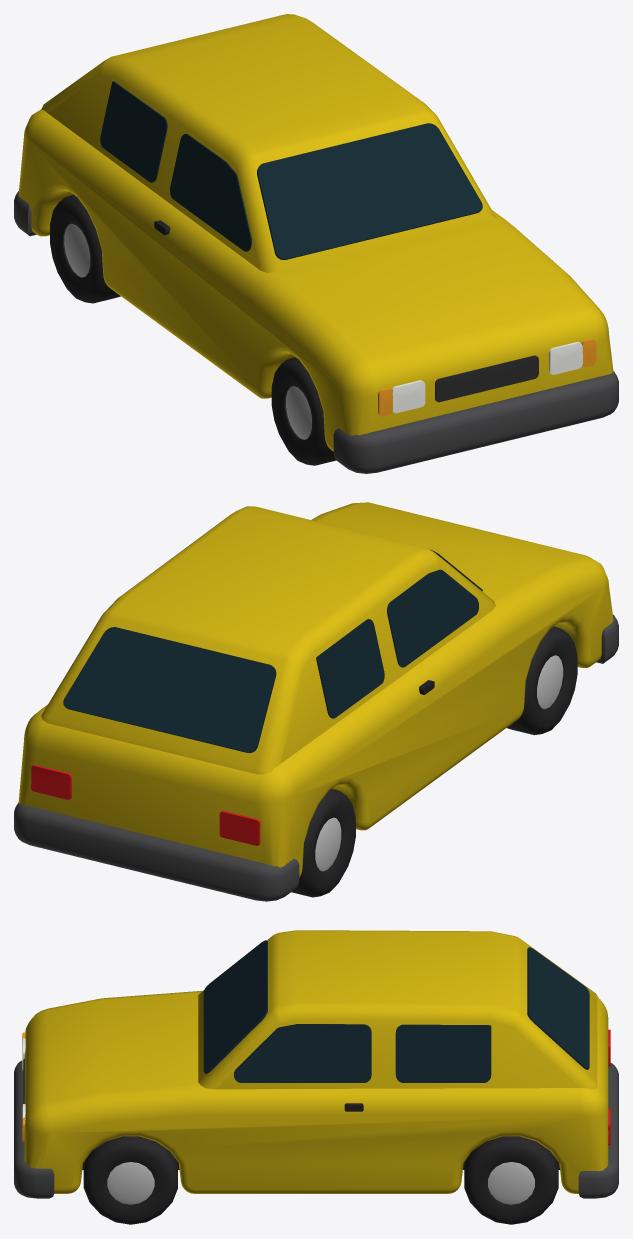
Rendered from car_hatchback.glb.
3 views of the same model, one above another, from view 1: azimuth 30°, elevation 25°; view 2: azimuth 150°, elevation 25°; view 3: azimuth 270°, elevation 25° (orthographic). The views are drawn at different scales.
Parts seen in each view (by area): view 1: body, wheel_rear_right, wheel_front_right; view 2: body, wheel_front_right, wheel_rear_right; view 3: body, wheel_rear_left, wheel_front_left.
Part boxes in pixels (box(x1,y1,x2,y2)): body: box(14, 14, 618, 473); wheel_rear_right: box(50, 194, 120, 303); wheel_front_right: box(271, 357, 336, 465); body: box(14, 502, 618, 901); wheel_front_right: box(507, 626, 577, 735); wheel_rear_right: box(291, 788, 355, 897); body: box(14, 930, 618, 1198); wheel_rear_left: box(464, 1136, 558, 1224); wheel_front_left: box(83, 1136, 177, 1224).
Bounding box in the file's own units: 2 × 1.7 × 4.5.
